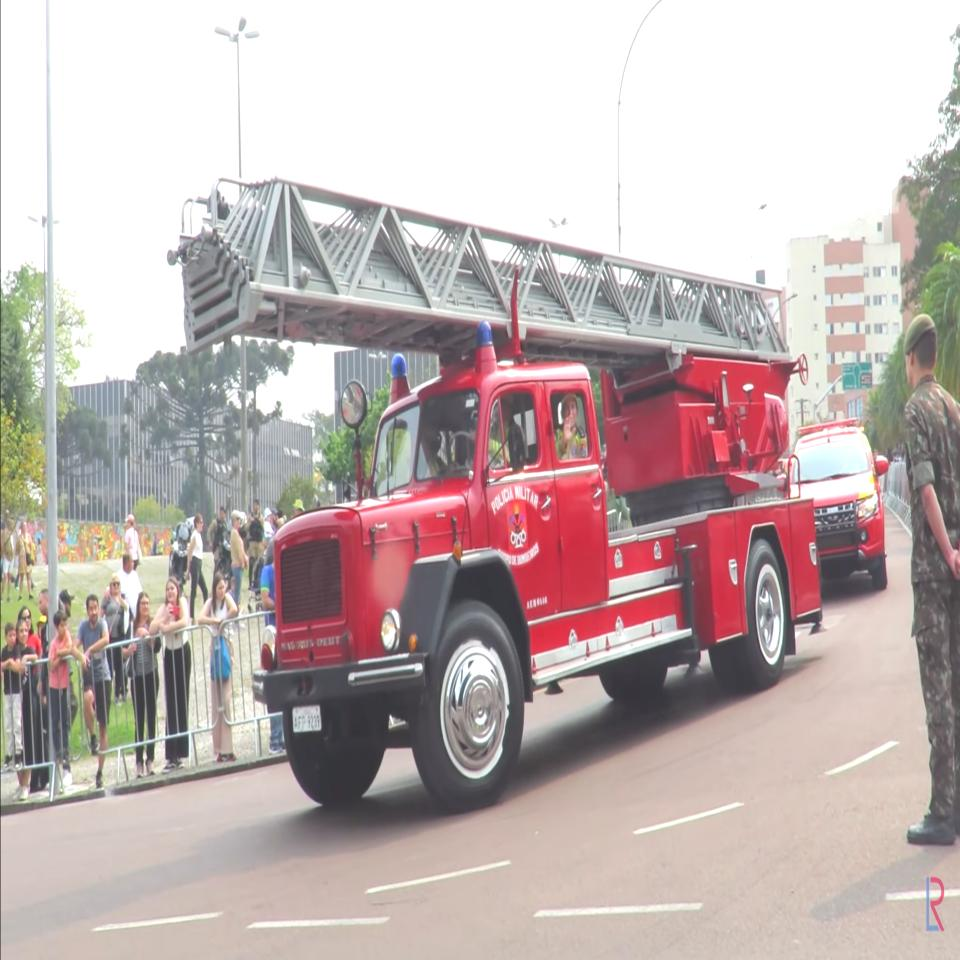bombeiro: (177, 171, 823, 810)
